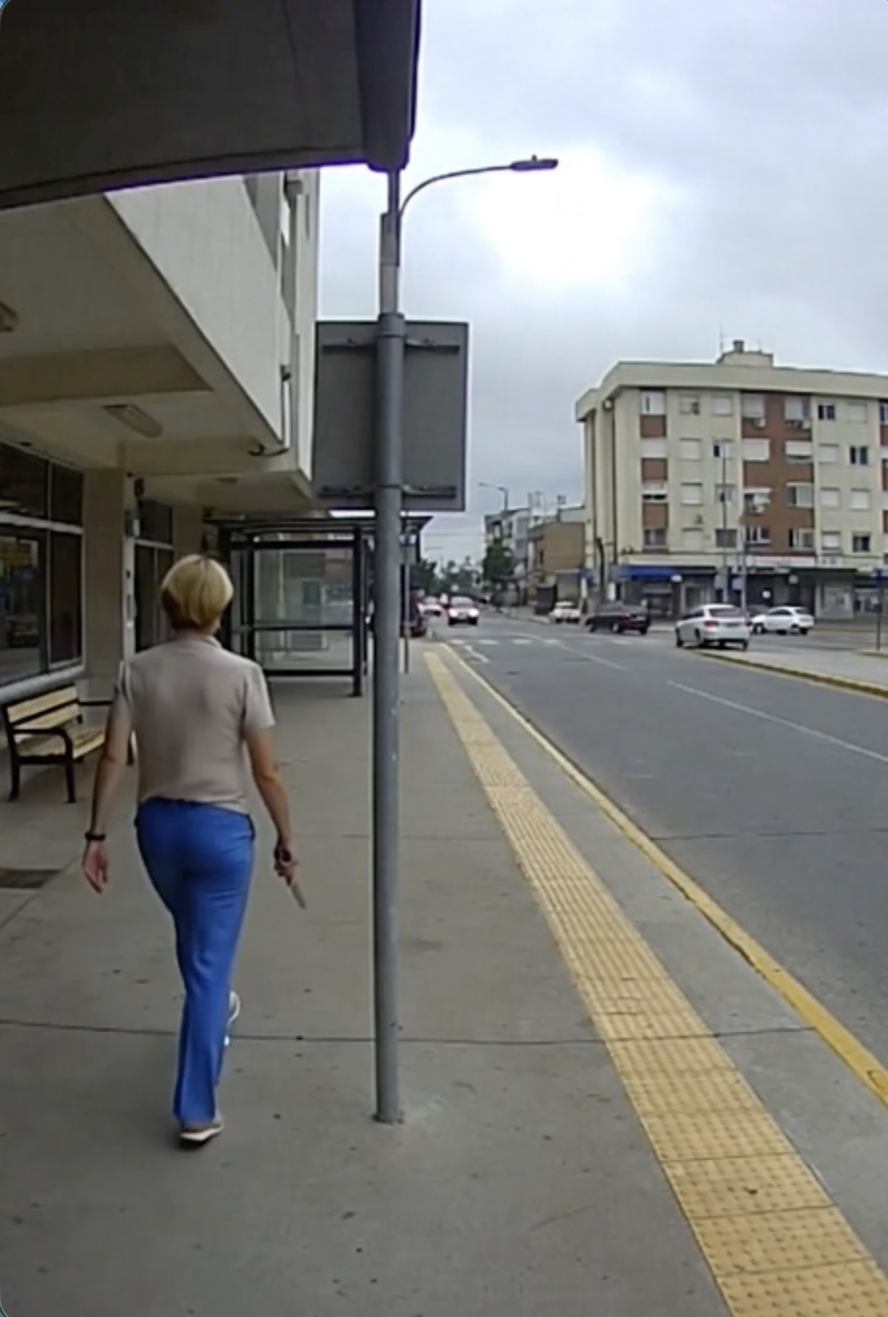Heavy Gun: (80, 546, 280, 1146)
Knife: (265, 831, 311, 912)
